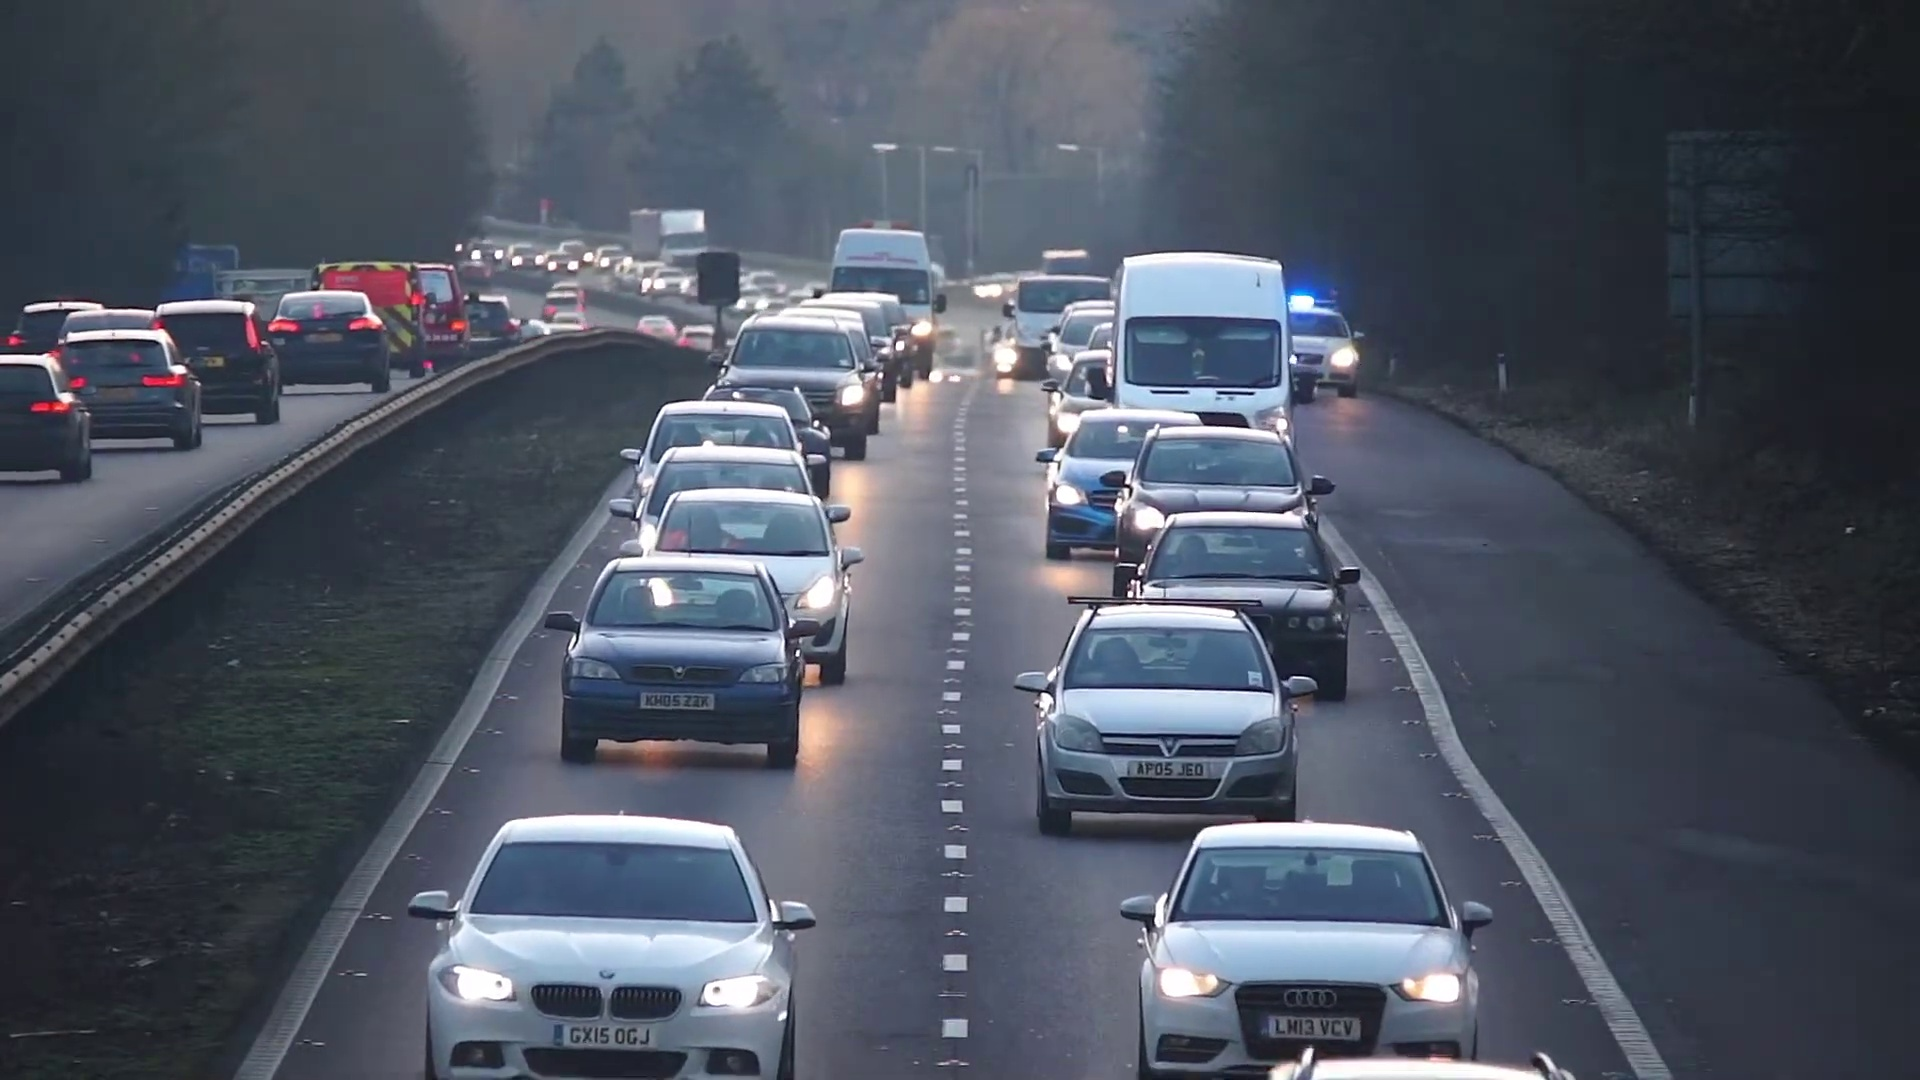license_plate: (550, 1022, 659, 1051), (1259, 1016, 1361, 1044), (1126, 759, 1215, 778), (637, 692, 716, 712)
